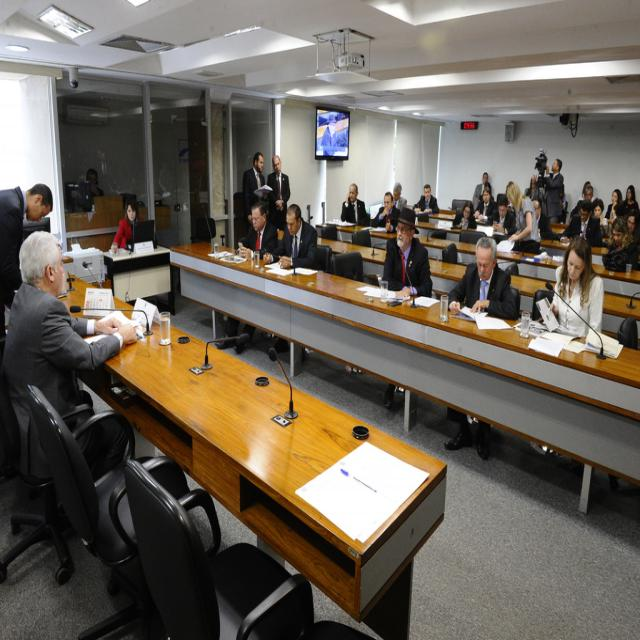chair: (124, 456, 318, 638), (26, 382, 148, 630), (1, 376, 74, 585), (332, 251, 363, 281), (312, 244, 334, 274)
desk: (58, 266, 448, 640)
person: (0, 231, 140, 483), (0, 183, 54, 340), (539, 236, 604, 339), (446, 236, 520, 320), (381, 208, 433, 299), (237, 194, 279, 256), (279, 203, 318, 267), (266, 153, 291, 240), (242, 151, 270, 222), (110, 199, 138, 253), (340, 182, 369, 225)
tv: (315, 107, 351, 163)
